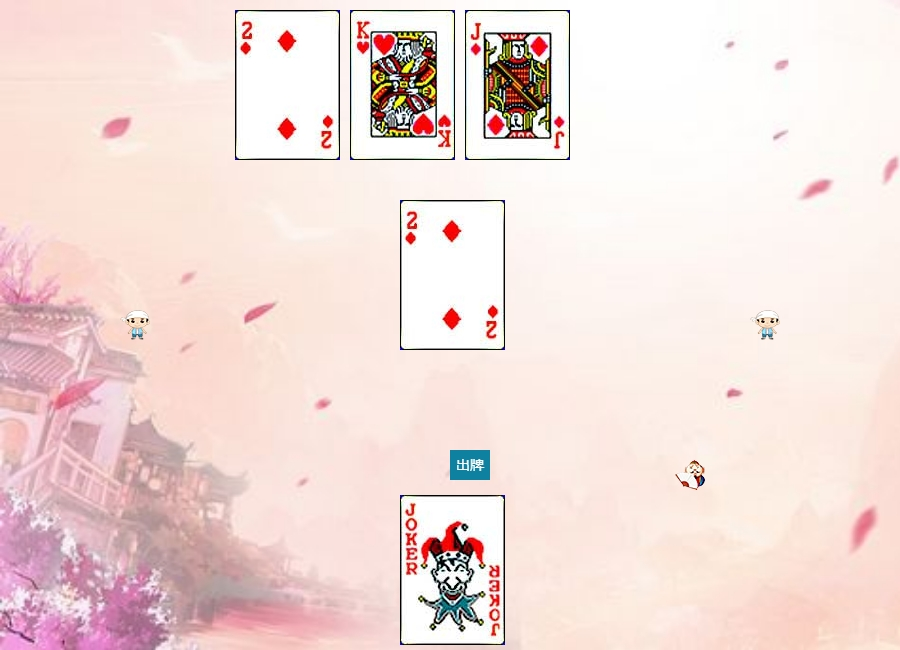11~1: (465, 10, 570, 160)
13~3: (350, 10, 455, 160)
15~1: (235, 10, 340, 160), (400, 200, 505, 350)
18~4: (400, 495, 505, 645)
